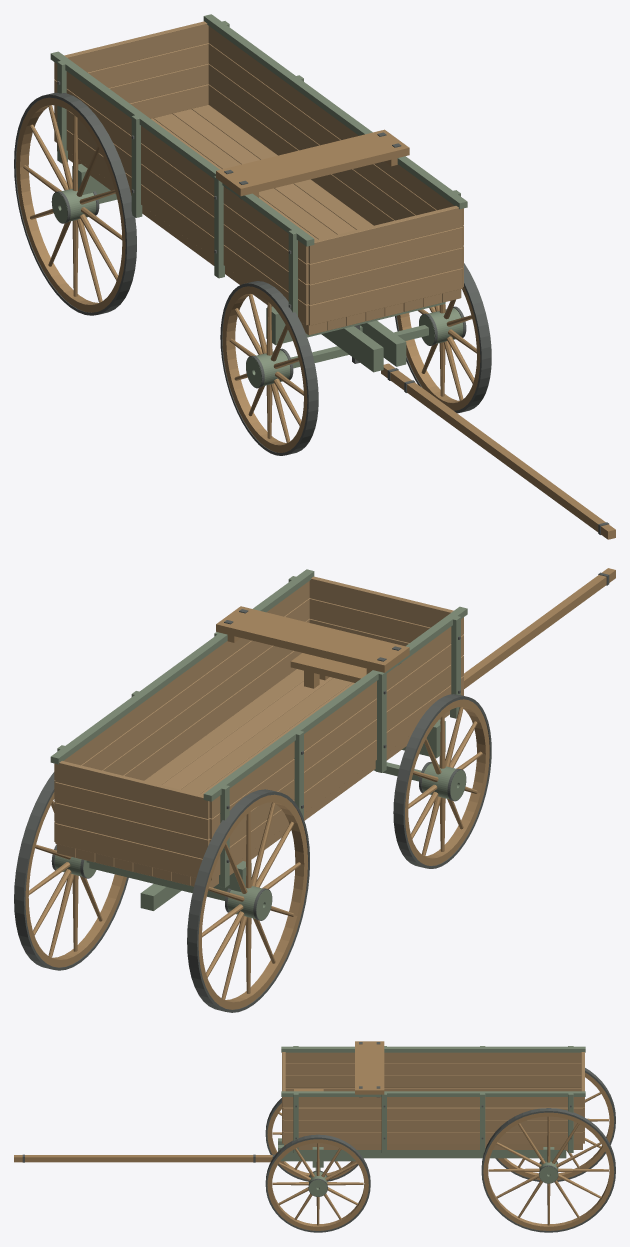
File: wagon-w01.glb
The picture shows the model from 3 angles, top to bottom: view 1: azimuth 30°, elevation 25°; view 2: azimuth 150°, elevation 25°; view 3: azimuth 270°, elevation 25°; orthographic projection. The views are drawn at different scales.
Parts seen in each view (by area): view 1: vehicle_body_plank_b, vehicle_body_plank_a, vehicle_body_paint, vehicle_wheel_rear_right_timber, vehicle_wheel_front_right_timber, vehicle_body_timber, vehicle_wheel_rear_right_iron, vehicle_tongue_timber, vehicle_wheel_front_left_timber, vehicle_steer_front_paint, vehicle_wheel_front_right_iron, vehicle_wheel_front_left_iron (+4 smaller); view 2: vehicle_body_plank_b, vehicle_body_plank_a, vehicle_body_paint, vehicle_wheel_rear_right_timber, vehicle_body_timber, vehicle_wheel_front_right_timber, vehicle_wheel_rear_left_timber, vehicle_wheel_rear_right_iron, vehicle_wheel_front_right_iron, vehicle_wheel_rear_left_iron, vehicle_tongue_timber, vehicle_root_paint (+3 smaller); view 3: vehicle_body_plank_b, vehicle_body_plank_a, vehicle_body_paint, vehicle_wheel_rear_left_timber, vehicle_wheel_front_left_timber, vehicle_tongue_timber, vehicle_root_paint, vehicle_body_timber, vehicle_wheel_rear_left_iron, vehicle_wheel_rear_right_timber, vehicle_wheel_front_left_iron, vehicle_steer_front_paint (+5 smaller).
Boxes of the visible parts, bbox=[...] form: vehicle_body_plank_b: bbox=[54, 21, 463, 330]; vehicle_body_plank_a: bbox=[54, 43, 463, 335]; vehicle_body_paint: bbox=[50, 14, 467, 315]; vehicle_wheel_rear_right_timber: bbox=[16, 97, 125, 312]; vehicle_wheel_front_right_timber: bbox=[222, 286, 307, 452]; vehicle_body_timber: bbox=[216, 129, 409, 197]; vehicle_wheel_rear_right_iron: bbox=[14, 92, 136, 315]; vehicle_tongue_timber: bbox=[381, 363, 615, 539]; vehicle_wheel_front_left_timber: bbox=[397, 286, 480, 410]; vehicle_steer_front_paint: bbox=[291, 320, 428, 372]; vehicle_wheel_front_right_iron: bbox=[220, 281, 318, 455]; vehicle_wheel_front_left_iron: bbox=[395, 263, 491, 413]; vehicle_body_plank_b: bbox=[54, 576, 463, 885]; vehicle_body_plank_a: bbox=[54, 598, 463, 887]; vehicle_body_paint: bbox=[50, 569, 467, 887]; vehicle_wheel_rear_right_timber: bbox=[198, 794, 307, 1009]; vehicle_body_timber: bbox=[216, 606, 409, 688]; vehicle_wheel_front_right_timber: bbox=[405, 699, 489, 865]; vehicle_wheel_rear_left_timber: bbox=[25, 792, 126, 967]; vehicle_wheel_rear_right_iron: bbox=[187, 789, 309, 1012]; vehicle_wheel_front_right_iron: bbox=[393, 694, 491, 868]; vehicle_wheel_rear_left_iron: bbox=[14, 772, 128, 970]; vehicle_tongue_timber: bbox=[464, 568, 615, 688]; vehicle_root_paint: bbox=[86, 719, 445, 910]; vehicle_body_plank_b: bbox=[282, 1052, 584, 1149]; vehicle_body_plank_a: bbox=[282, 1063, 584, 1144]; vehicle_body_paint: bbox=[281, 1046, 585, 1152]; vehicle_wheel_rear_left_timber: bbox=[483, 1112, 614, 1230]; vehicle_wheel_front_left_timber: bbox=[267, 1139, 368, 1230]; vehicle_tongue_timber: bbox=[14, 1155, 283, 1162]; vehicle_root_paint: bbox=[312, 1147, 566, 1167]; vehicle_body_timber: bbox=[294, 1041, 384, 1094]; vehicle_wheel_rear_left_iron: bbox=[481, 1108, 615, 1232]; vehicle_wheel_rear_right_timber: bbox=[498, 1072, 614, 1180]; vehicle_wheel_front_left_iron: bbox=[265, 1134, 370, 1232]; vehicle_steer_front_paint: bbox=[278, 1138, 362, 1188].
Bounding box in the file's own units: 1.43 × 1.59 × 6.14.
